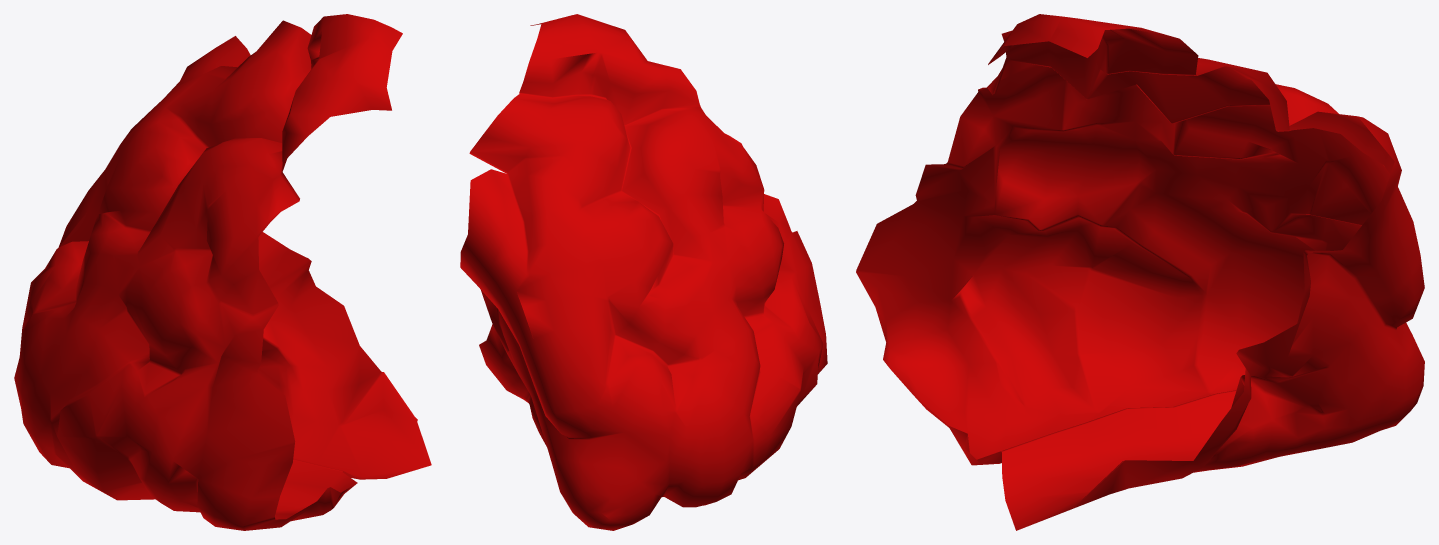
Rendered from region_11.obj.
3 renders of one model, left to right at view 1: azimuth 30°, elevation 25°; view 2: azimuth 150°, elevation 25°; view 3: azimuth 270°, elevation 25°, orthographic. The views are drawn at different scales.
Parts seen in each view (by area): view 1: ID99; view 2: ID99; view 3: ID99.
Boxes of the visible parts, x1=… form: ID99: x1=14, y1=14, x2=431, y2=530; ID99: x1=460, y1=14, x2=827, y2=530; ID99: x1=856, y1=14, x2=1424, y2=530.
Bounding box in the file's own units: 57.14 × 75.56 × 76.88.
